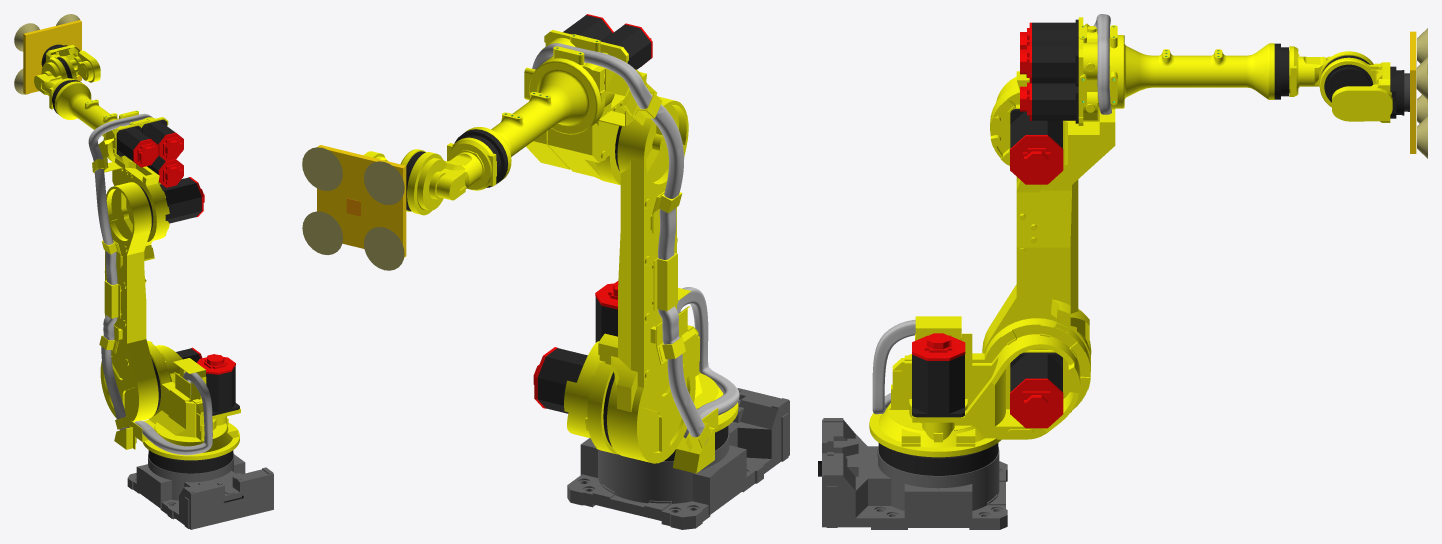
File: maduo.obj
The picture shows the model from 3 angles, left to right: view 1: azimuth 30°, elevation 25°; view 2: azimuth 150°, elevation 25°; view 3: azimuth 270°, elevation 25°; orthographic projection. The views are drawn at different scales.
Visible parts, largest first — view 1: _0, _1, _2, _6, VacuumTool1, _3, Cylinder2; view 2: _1, _2, _6, _0, VacuumTool1, _3, Cylinder3, Cylinder2, Cylinder1, Cylinder4; view 3: _0, _2, _6, _1, _3, VacuumTool1.
Part boxes in pixels (x1,y1,x2,y2): _0: (41,44,240,460); _1: (43,46,158,422); _2: (52,80,204,245); _6: (127,450,273,529); VacuumTool1: (23,20,81,94); _3: (34,62,79,109); Cylinder2: (14,23,39,51); _1: (598,96,695,463); _2: (454,14,683,187); _6: (567,388,789,529); _0: (363,149,739,473); VacuumTool1: (317,145,406,257); _3: (417,137,496,210); Cylinder3: (302,147,342,190); Cylinder2: (364,161,404,204); Cylinder1: (364,227,404,270); Cylinder4: (302,211,342,254); _0: (869,51,1404,457); _2: (990,14,1289,184); _6: (822,418,1007,529); _1: (982,73,1409,368); _3: (1289,46,1330,96); VacuumTool1: (1410,31,1416,153).
Bounding box in the file's own units: 0.6108 × 1.72 × 1.99.
